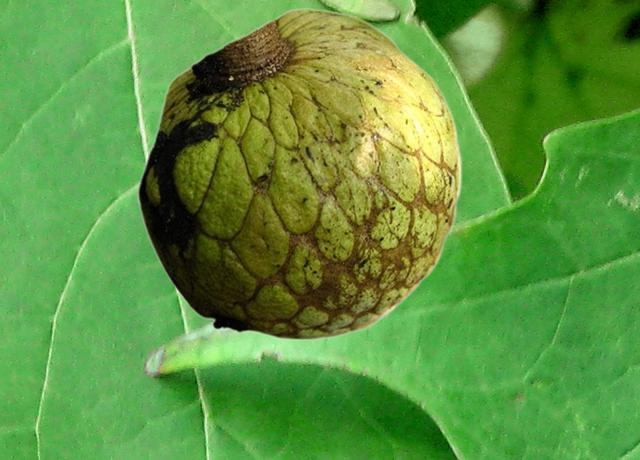atis: (136, 7, 461, 340)
